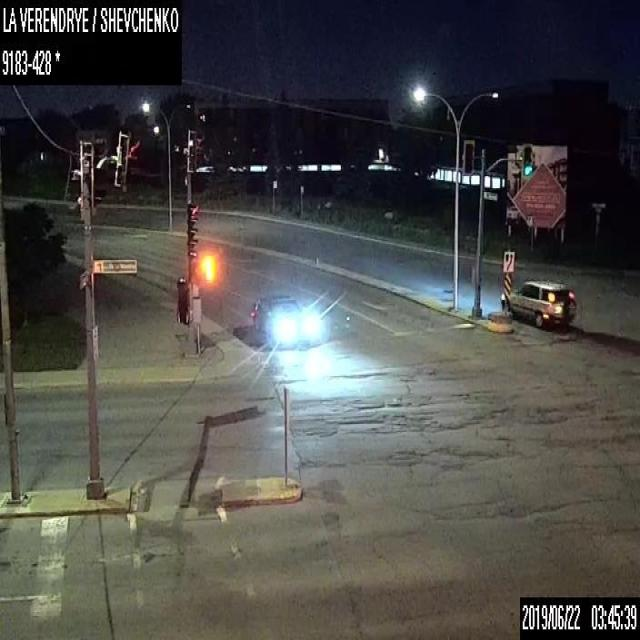vehicle: (250, 292, 319, 347), (500, 277, 575, 327)
